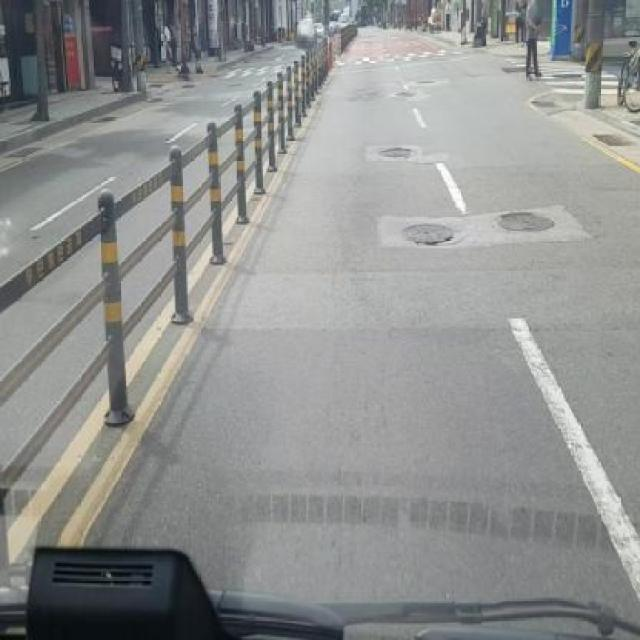Manhole: (400, 222, 465, 248), (497, 210, 557, 235), (592, 130, 638, 153), (376, 145, 414, 158), (528, 98, 561, 110), (413, 78, 435, 85), (396, 91, 414, 95)
